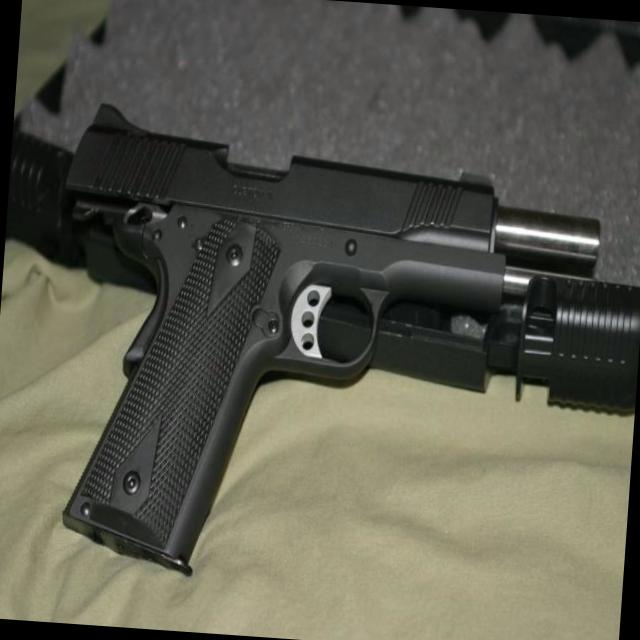Gun: (63, 104, 599, 572)
